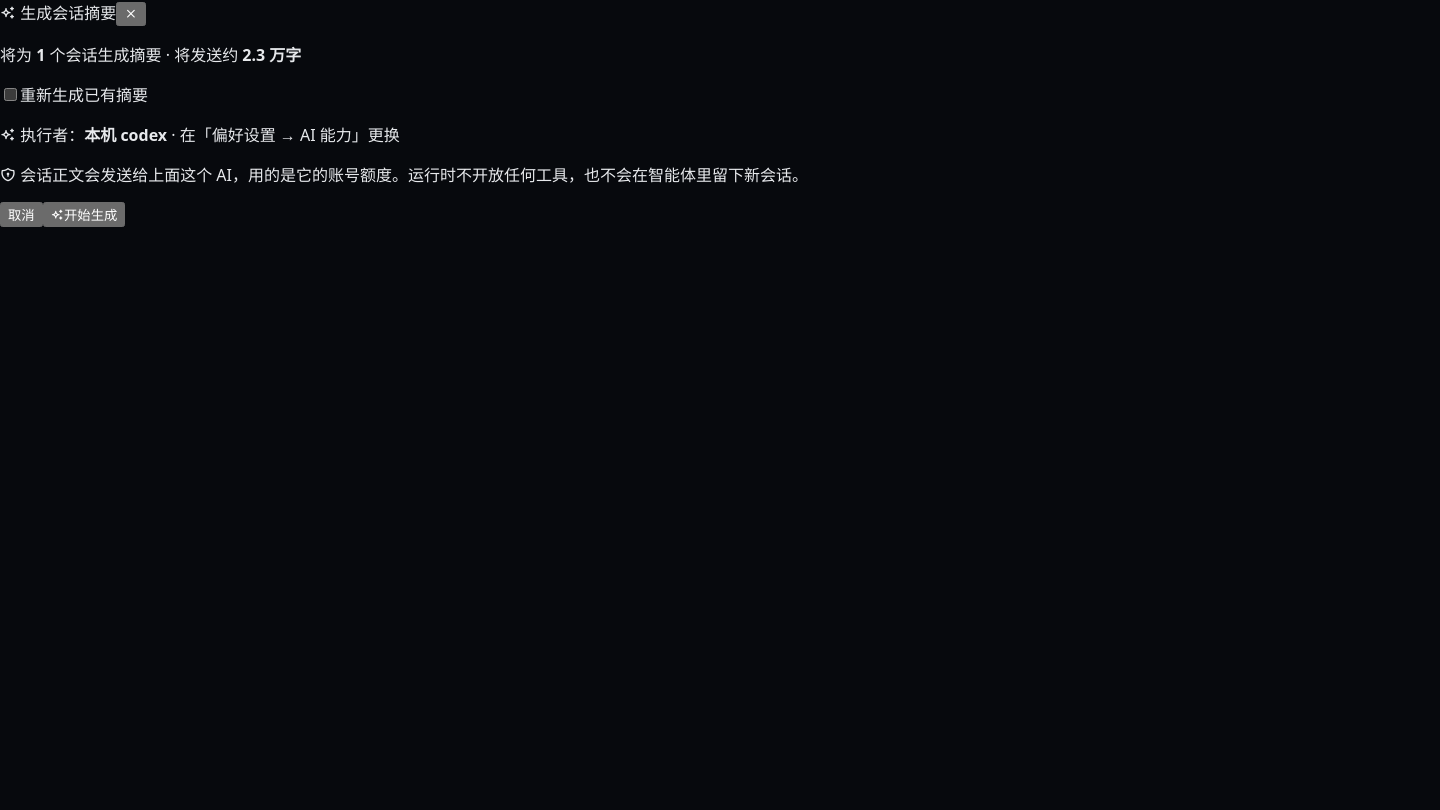
Test case: summary dialog › shows what will be sent, names the AI source, and starts without settings of its own
Click the button "开始生成" at x=84, y=214, box [43, 202, 125, 227]
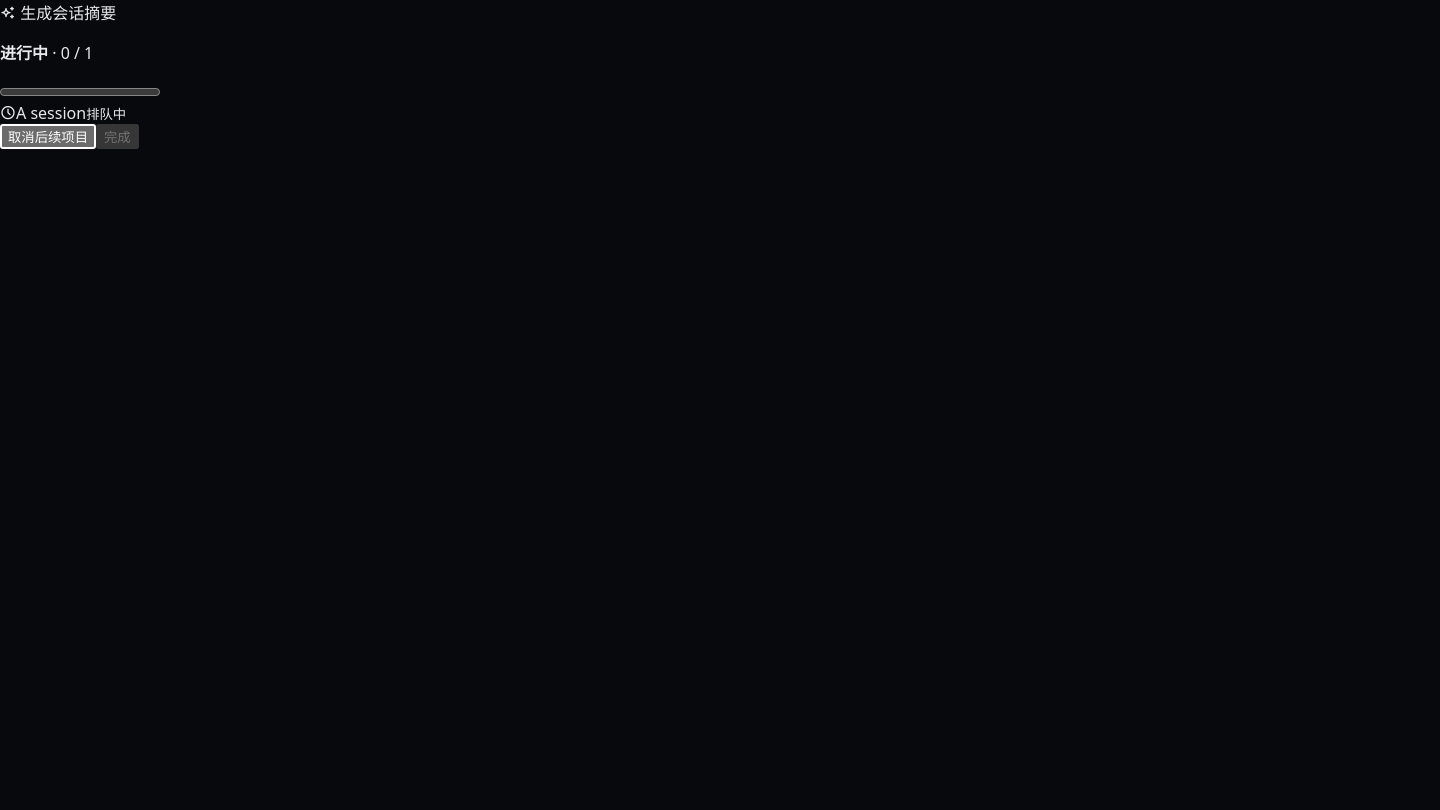
Expected: the text "A session" is shown, [16, 102, 86, 124]
